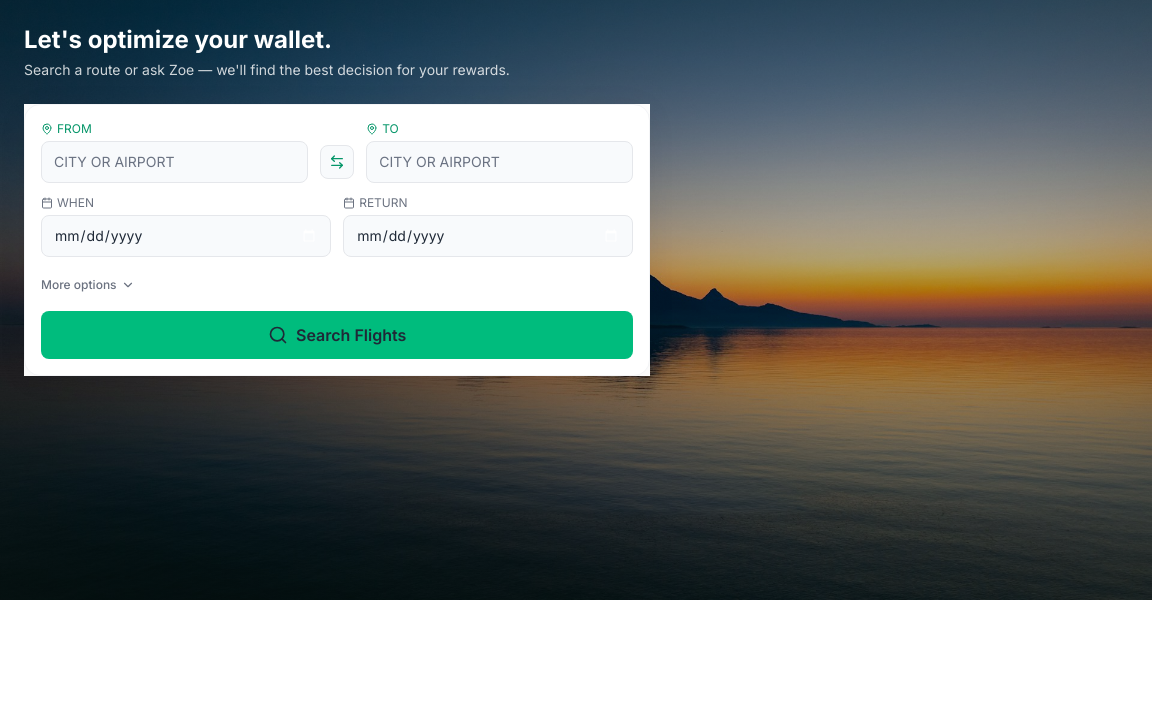
slim search pill (PR 7) — 3 visible, 5 behind 'More options' › clicking 'More options' reveals the 5 secondary fields
Click the button "More options" at (88, 285), box [41,277,135,293]
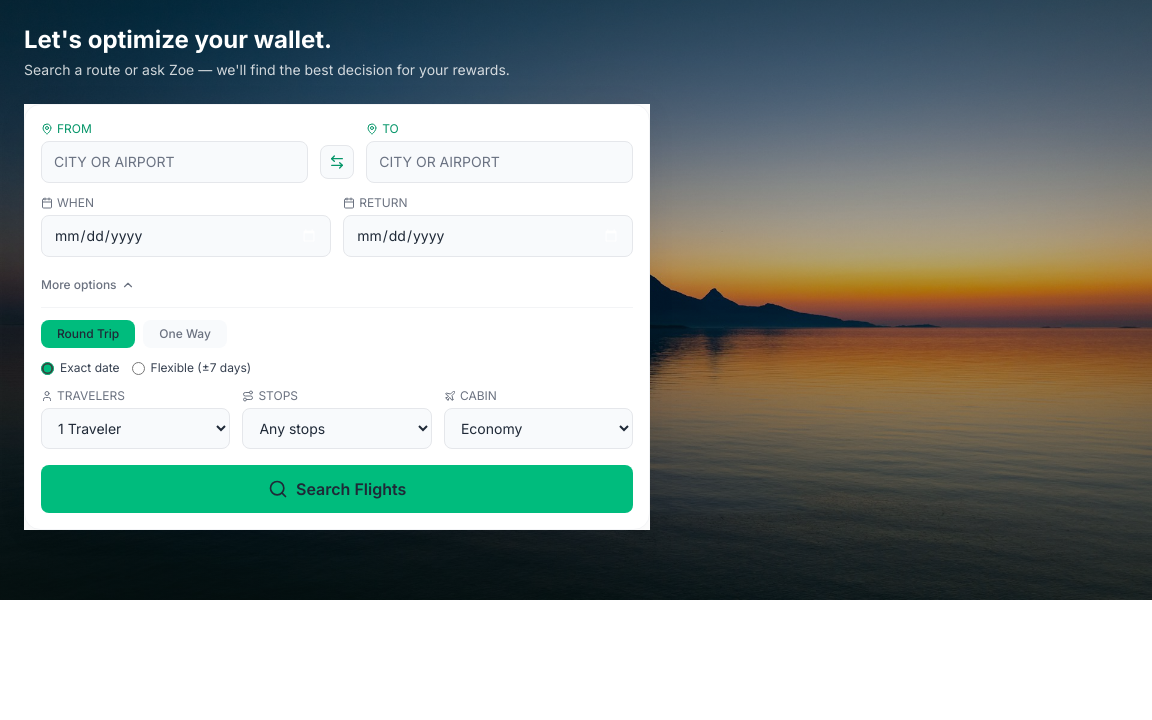
expect the number of dropdowns is 3: met, box [41,408,230,449]; [242,408,432,449]; [444,408,633,449]
